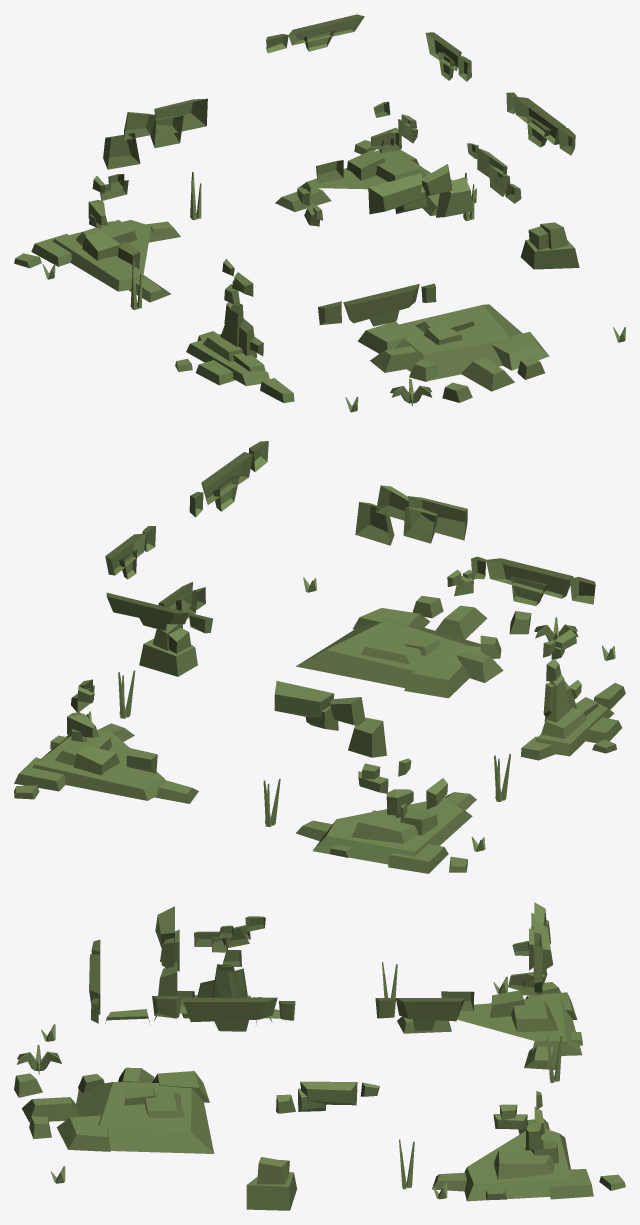
Rendered from SA_Bld_HouseLarge_Growth_03.gltf.
3 renders of one model, top to bottom at view 1: azimuth 30°, elevation 25°; view 2: azimuth 150°, elevation 25°; view 3: azimuth 270°, elevation 25°, orthographic. The views are drawn at different scales.
Parts seen in each view (by area): view 1: SA_Bld_HouseLarge_Growth_03; view 2: SA_Bld_HouseLarge_Growth_03; view 3: SA_Bld_HouseLarge_Growth_03.
Boxes of the visible parts, x1,y1,x2,y2 form: SA_Bld_HouseLarge_Growth_03: (14, 14, 625, 412); SA_Bld_HouseLarge_Growth_03: (14, 441, 625, 873); SA_Bld_HouseLarge_Growth_03: (14, 902, 625, 1210).
Size of the model in its own units: 24.91 by 9.77 by 28.98.
Materials: 1 (1 with a texture image).
